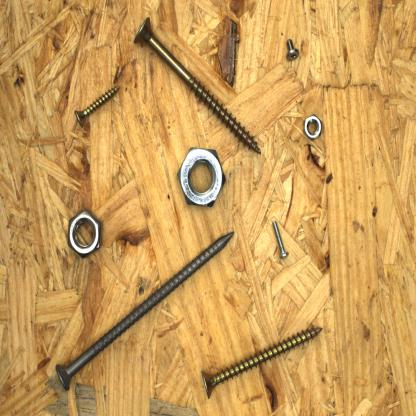screw: (53, 228, 238, 394), (131, 13, 264, 158), (198, 324, 324, 402), (70, 82, 123, 130), (270, 220, 291, 262), (283, 37, 301, 65)
